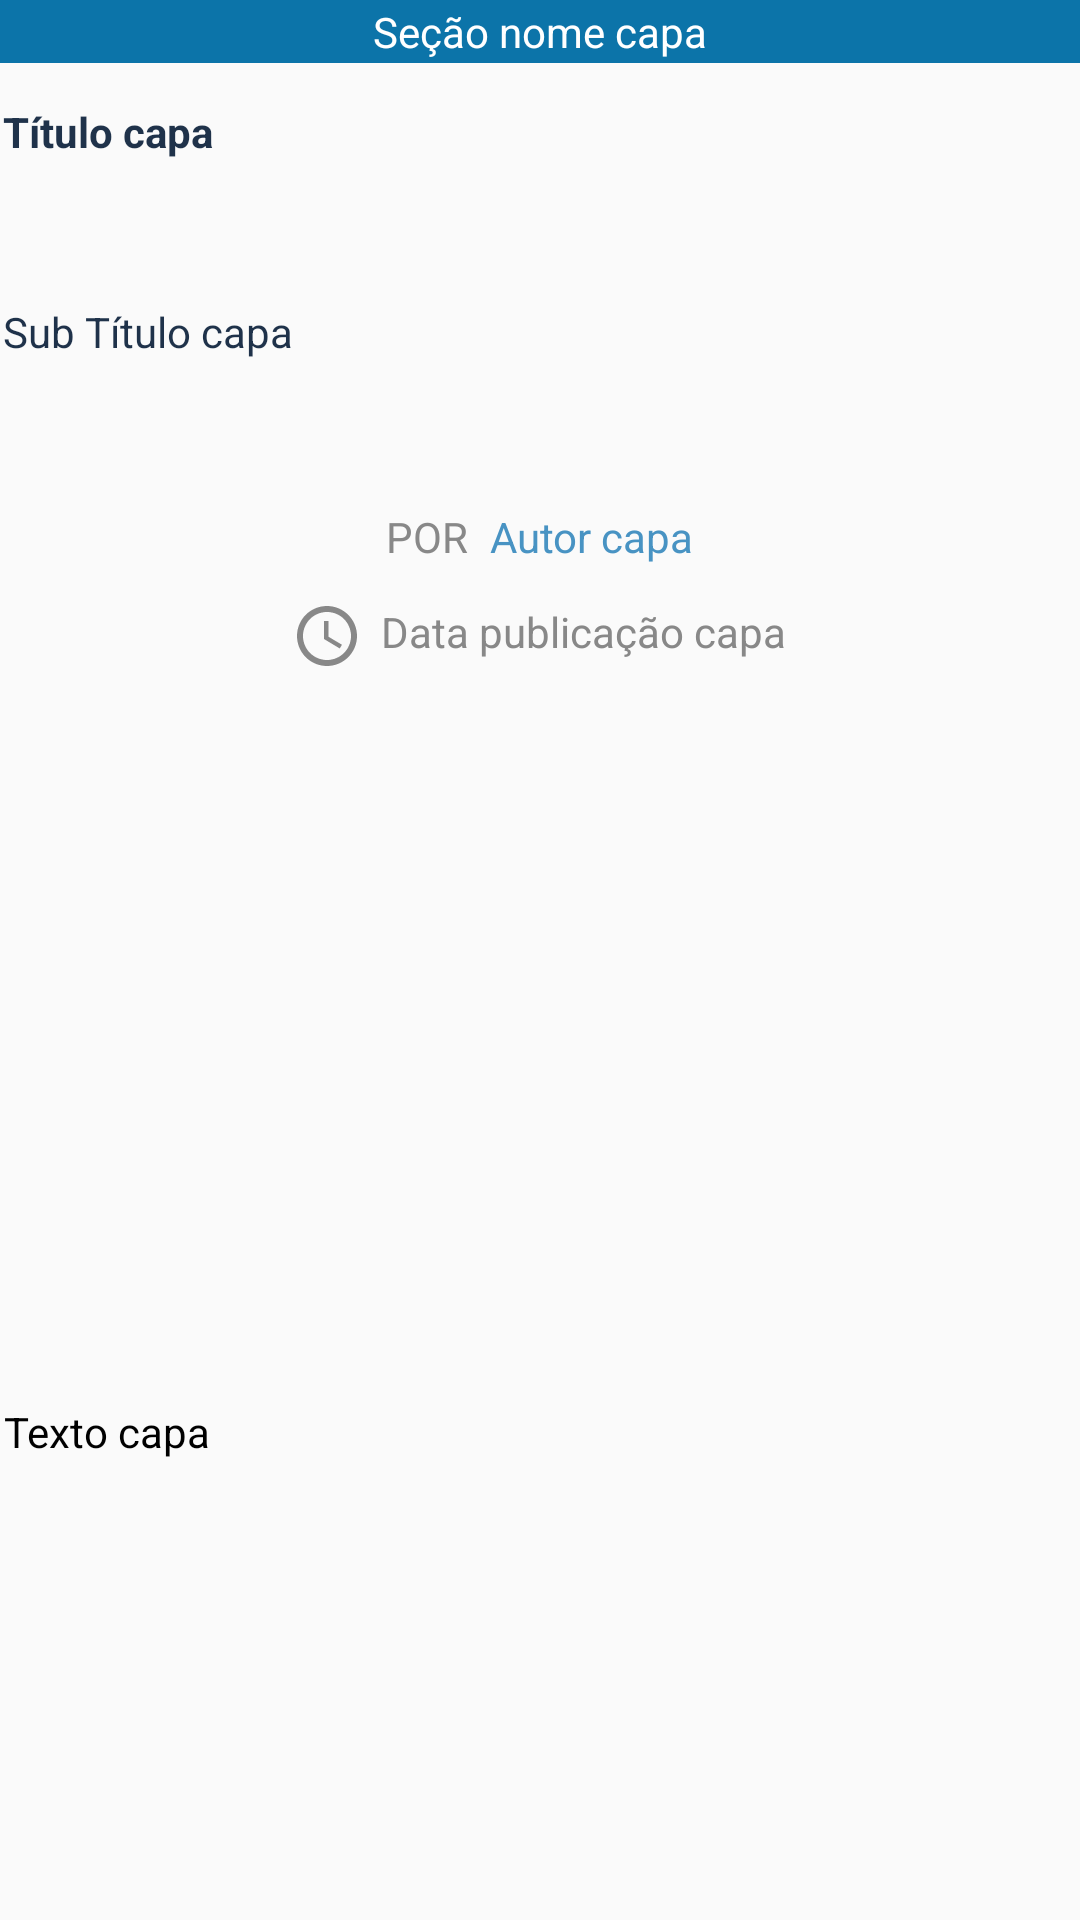

Named icons in this screenshot (1080px×1920px) and their centers, (x=x, y=y):
clock: (x=327, y=636)
